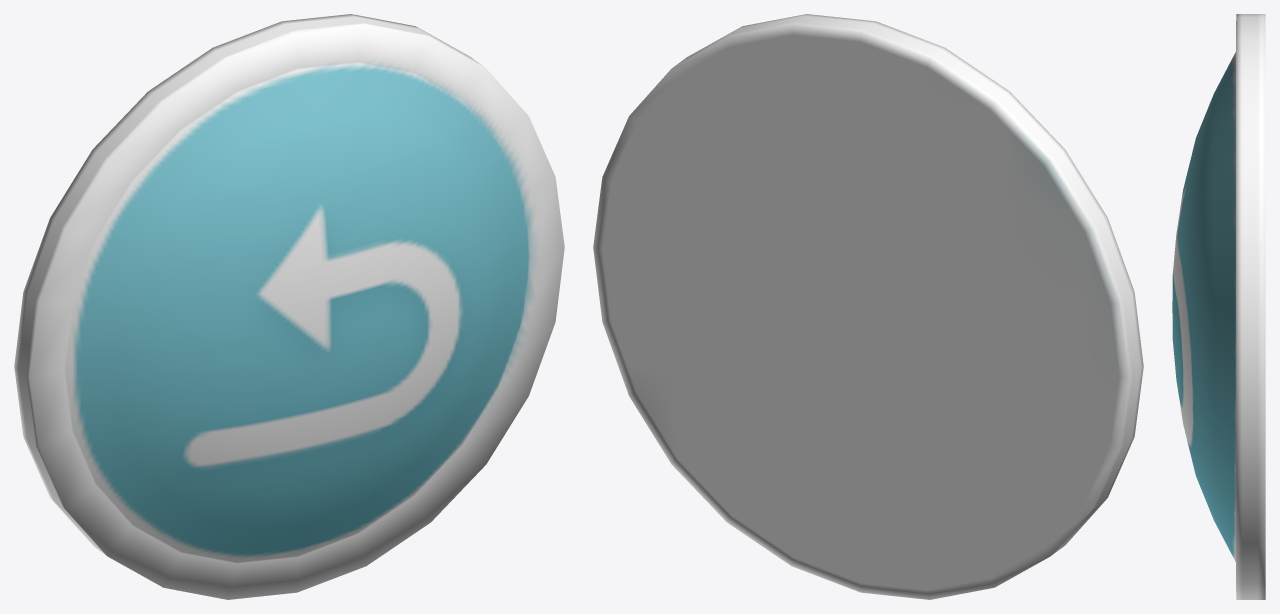
File: 3d uncheck button.fbx
3 views of the same model, side by side, from view 1: azimuth 30°, elevation 25°; view 2: azimuth 150°, elevation 25°; view 3: azimuth 270°, elevation 25° (orthographic). The views are drawn at different scales.
Visible parts, largest first — view 1: B 1.001; view 2: B 1.001; view 3: B 1.001.
Part boxes in pixels (<box>): B 1.001: <box>14,14,564,599</box>; B 1.001: <box>593,14,1143,599</box>; B 1.001: <box>1172,14,1265,599</box>.
Bounding box in the file's own units: 19.38 × 19.38 × 3.07.
Materials: 1 (1 with a texture image).
